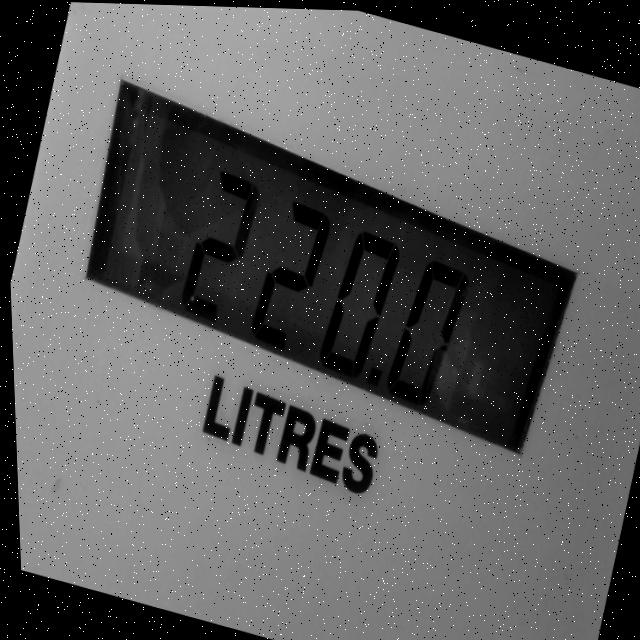.: (350, 358, 391, 419)
0: (376, 242, 480, 421), (311, 227, 402, 387)
2: (172, 164, 261, 323), (244, 200, 332, 351)
